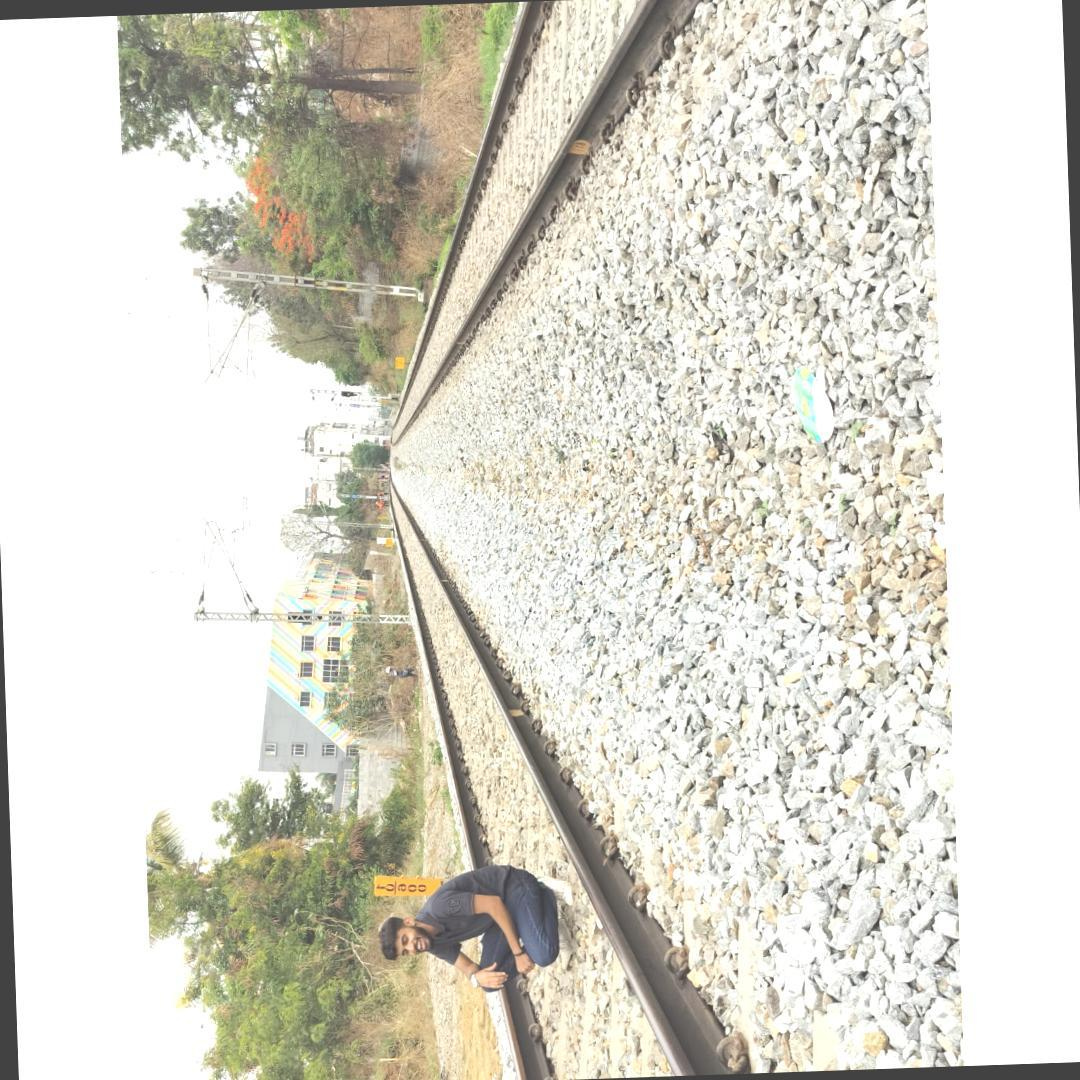sitting: (380, 838, 598, 1010)
track: (381, 478, 844, 1080), (387, 0, 785, 457)
